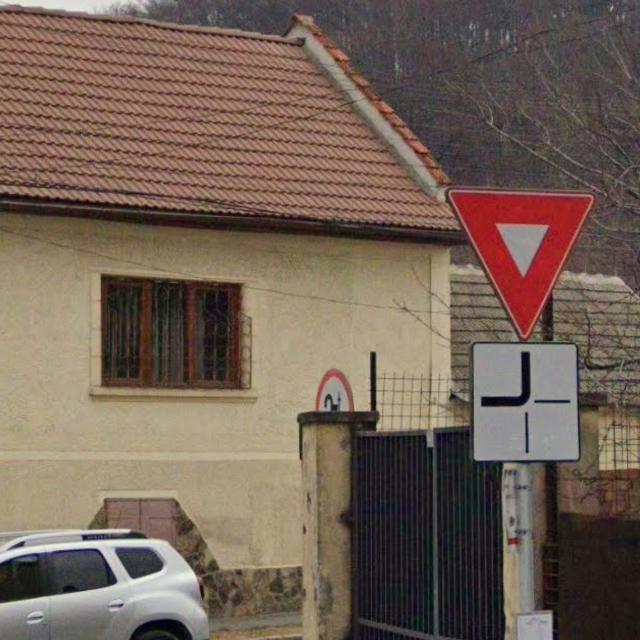prio_give_way: (442, 187, 590, 338)
